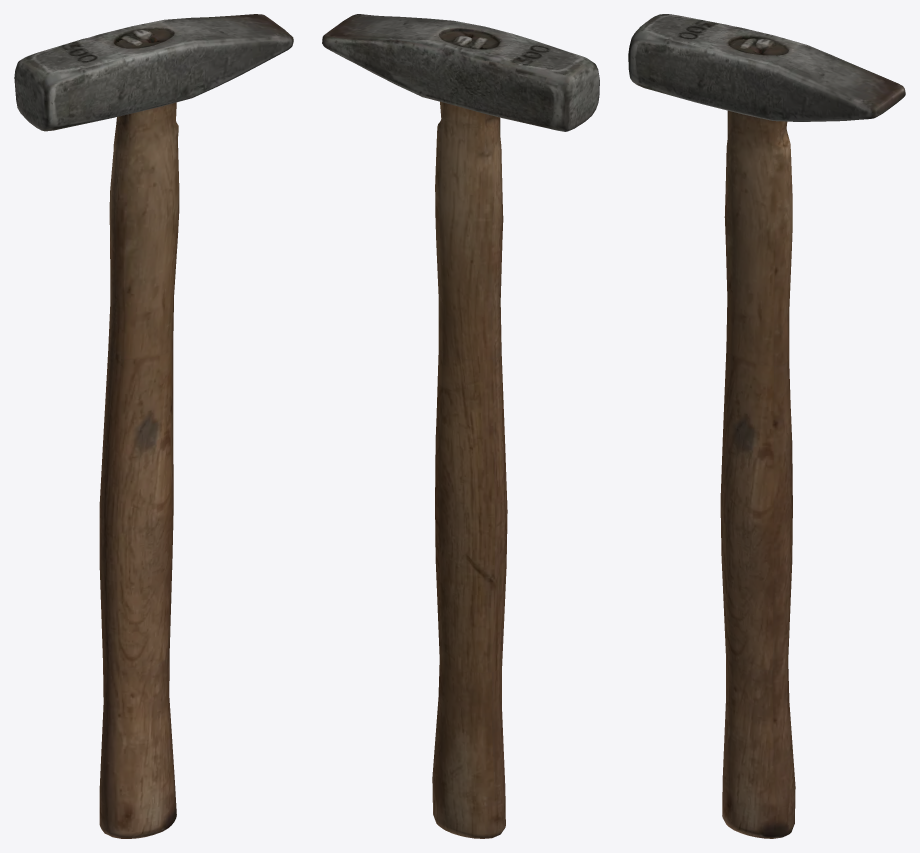
File: cross_pein_hammer.glb
3 renders of one model, left to right at view 1: azimuth 30°, elevation 25°; view 2: azimuth 150°, elevation 25°; view 3: azimuth 330°, elevation 25°, orthographic.
Visible parts, largest first — view 1: cross_pein_hammer; view 2: cross_pein_hammer; view 3: cross_pein_hammer.
Boxes of the visible parts, x1,y1,x2,y2 form: cross_pein_hammer: (14,14,293,838); cross_pein_hammer: (322,14,599,838); cross_pein_hammer: (628,14,905,838).
Size of the model in its own units: 0.0991 by 0.3002 by 0.0243.
1 material, 1 textured.
